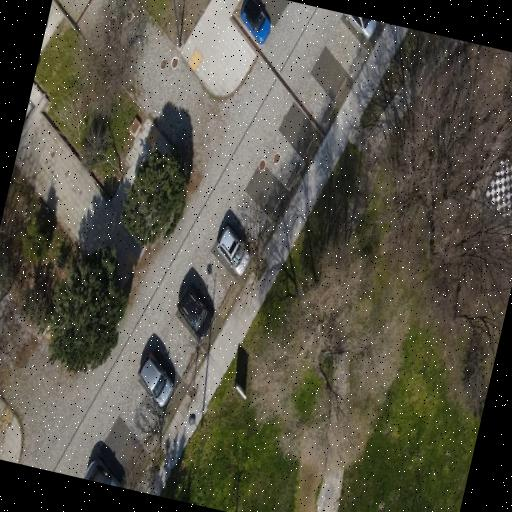car: (138, 353, 172, 406), (177, 286, 209, 338), (216, 227, 249, 276), (240, 0, 269, 44), (85, 459, 121, 487), (342, 13, 375, 38)
